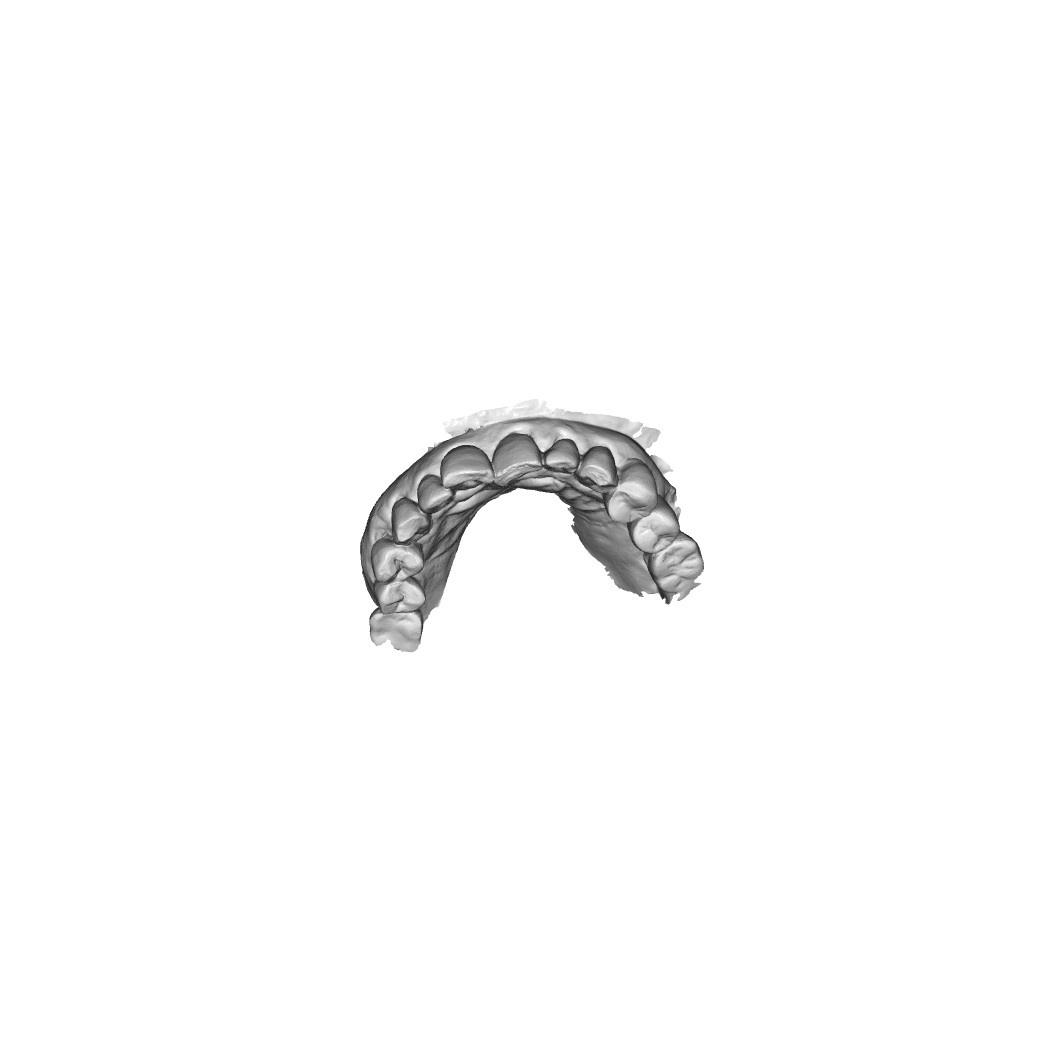canine: (389, 498, 432, 545), (579, 451, 617, 484)
incisor: (492, 437, 541, 481), (441, 450, 495, 486), (415, 474, 455, 516), (543, 441, 576, 474)
molar: (650, 535, 704, 592)
premolar: (608, 473, 653, 528), (374, 578, 428, 620), (633, 506, 678, 554), (374, 537, 424, 579)
